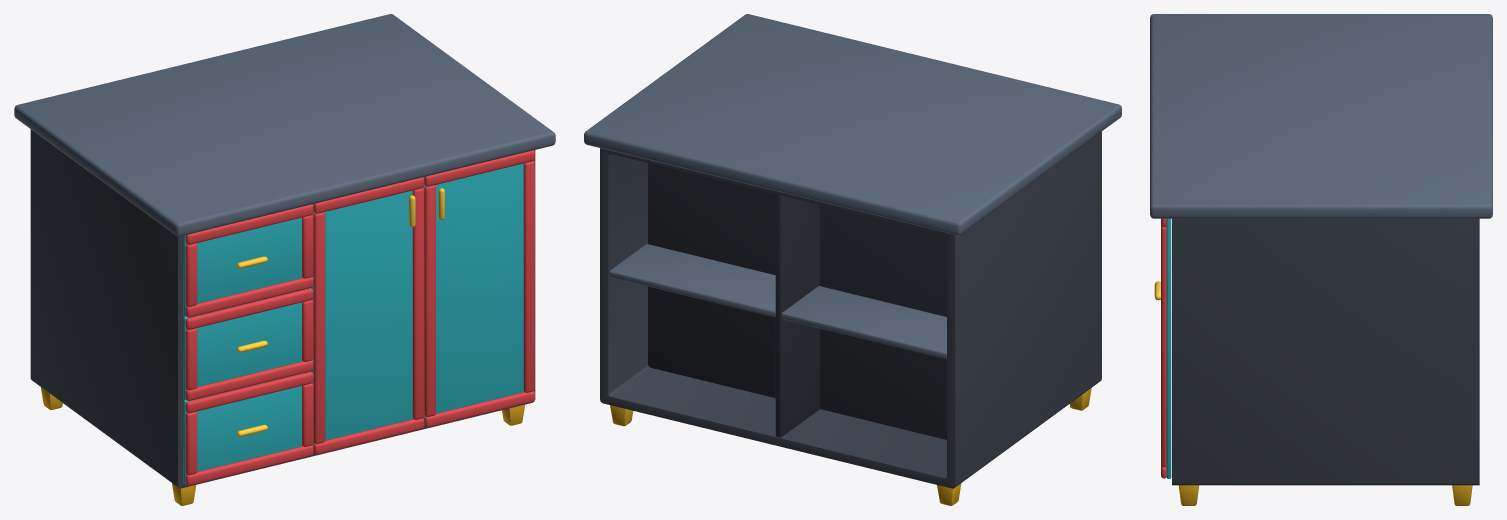
File: ilha_cozinha_grafite.glb
3 renders of one model, left to right at view 1: azimuth 30°, elevation 25°; view 2: azimuth 150°, elevation 25°; view 3: azimuth 270°, elevation 25°, orthographic. The views are drawn at different scales.
Visible parts, largest first — view 1: ilha_cozinha_grafite, porta_1, porta_2, gaveta_3, gaveta_2, gaveta_1; view 2: ilha_cozinha_grafite; view 3: ilha_cozinha_grafite, porta_2.
Boxes of the visible parts, <box> form: ilha_cozinha_grafite: <box>14,14,555,505</box>; porta_1: <box>311,177,424,454</box>; porta_2: <box>423,150,534,427</box>; gaveta_3: <box>183,371,313,485</box>; gaveta_2: <box>183,288,313,400</box>; gaveta_1: <box>183,204,313,317</box>; ilha_cozinha_grafite: <box>584,14,1121,505</box>; ilha_cozinha_grafite: <box>1150,14,1492,505</box>; porta_2: <box>1161,218,1171,478</box>.
Bounding box in the file's own units: 1.2 × 0.9 × 0.9.
Materials: 1 (1 with a texture image).
